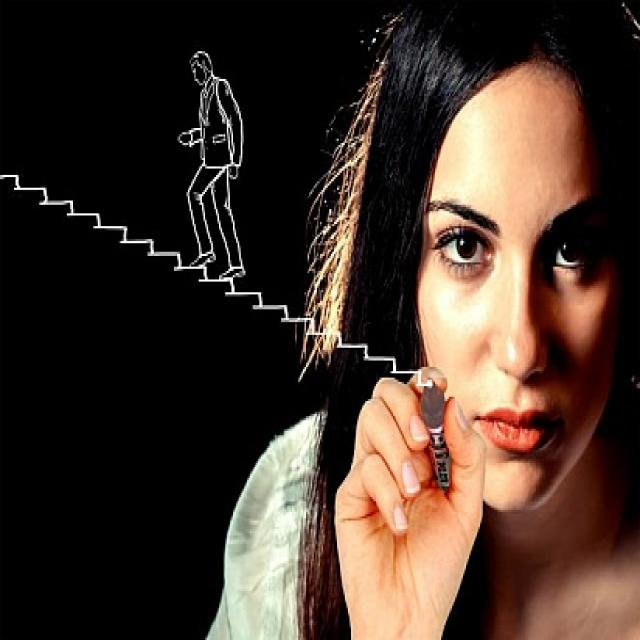Eyes: (422, 200, 618, 276)
